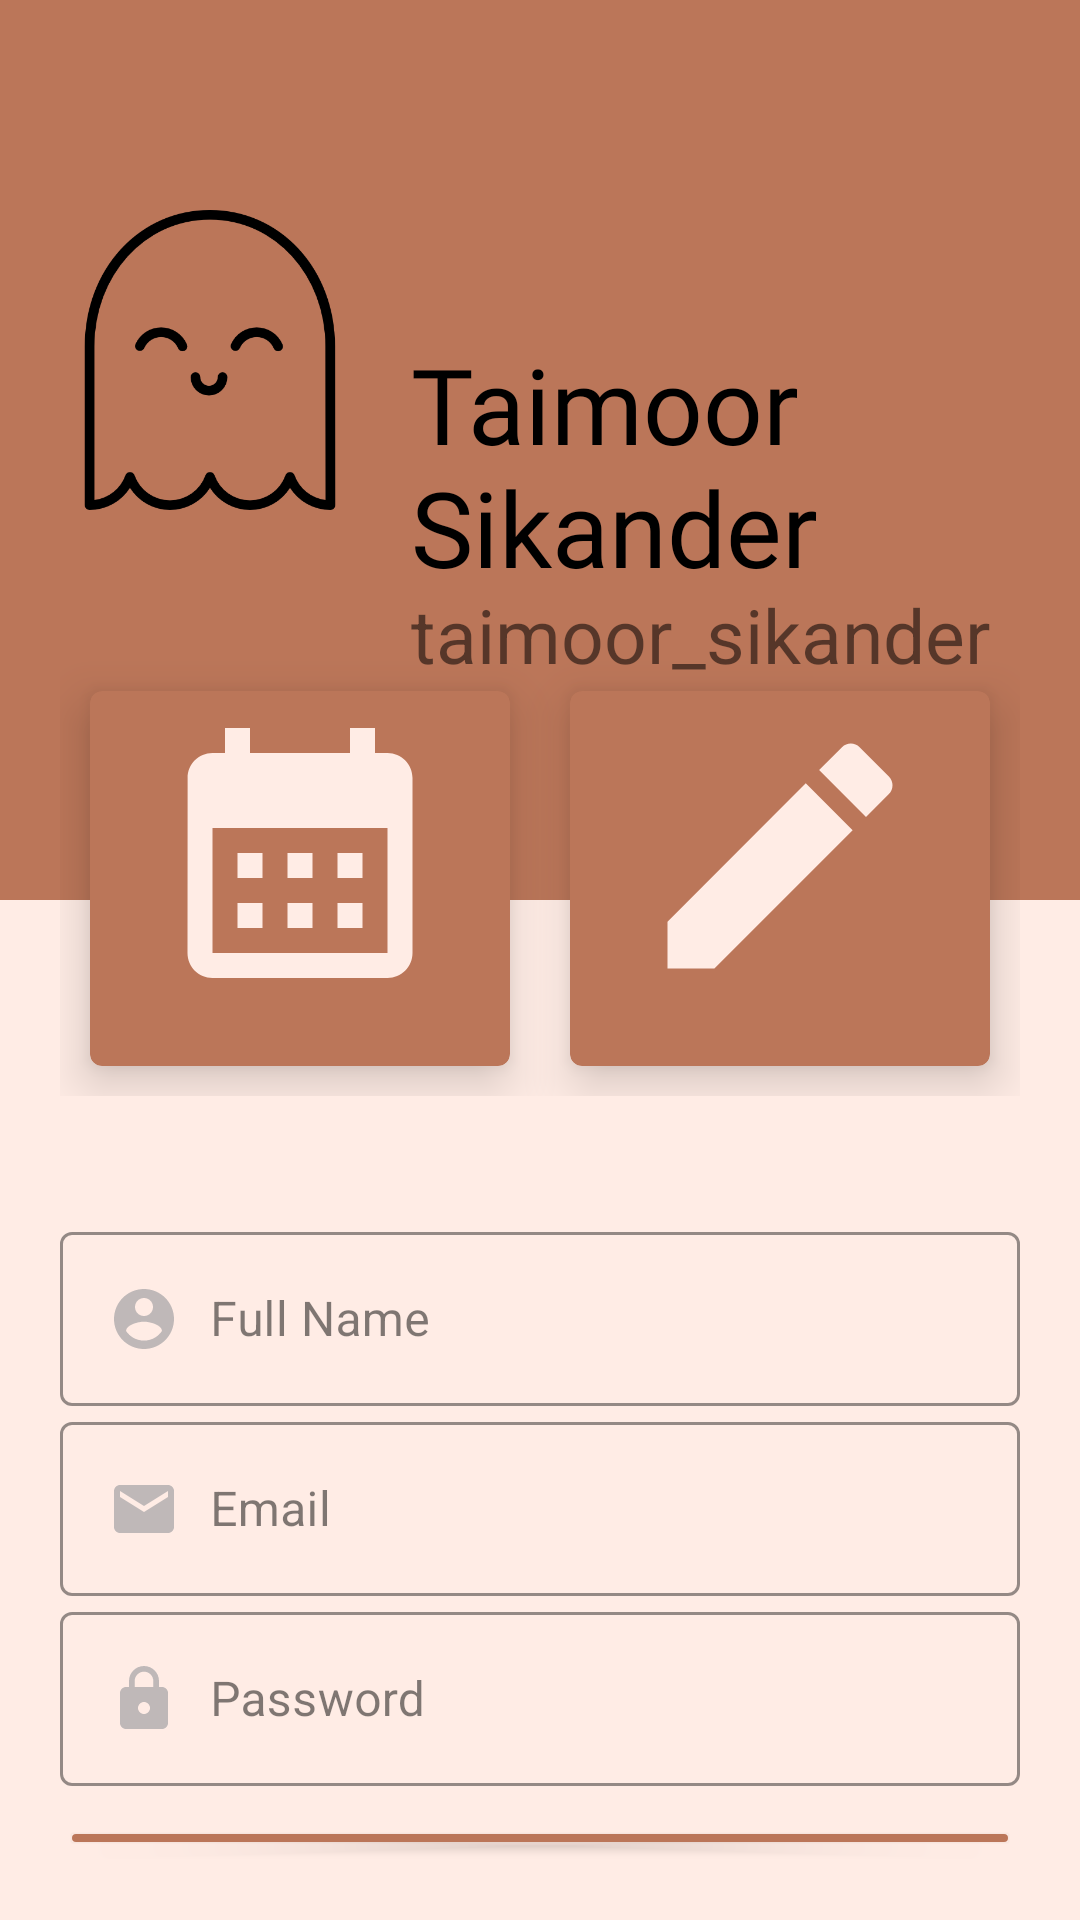

Point at icon controls on the screen. Image size 1080px x 1920px, points as (x,y).
calendar: (300,853)
pen: (780,856)
